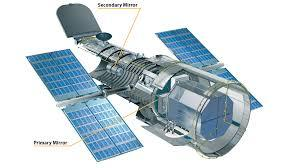antenna: (96, 31, 113, 43)
body: (66, 34, 253, 162)
solar: (23, 47, 146, 164), (153, 27, 267, 114)
